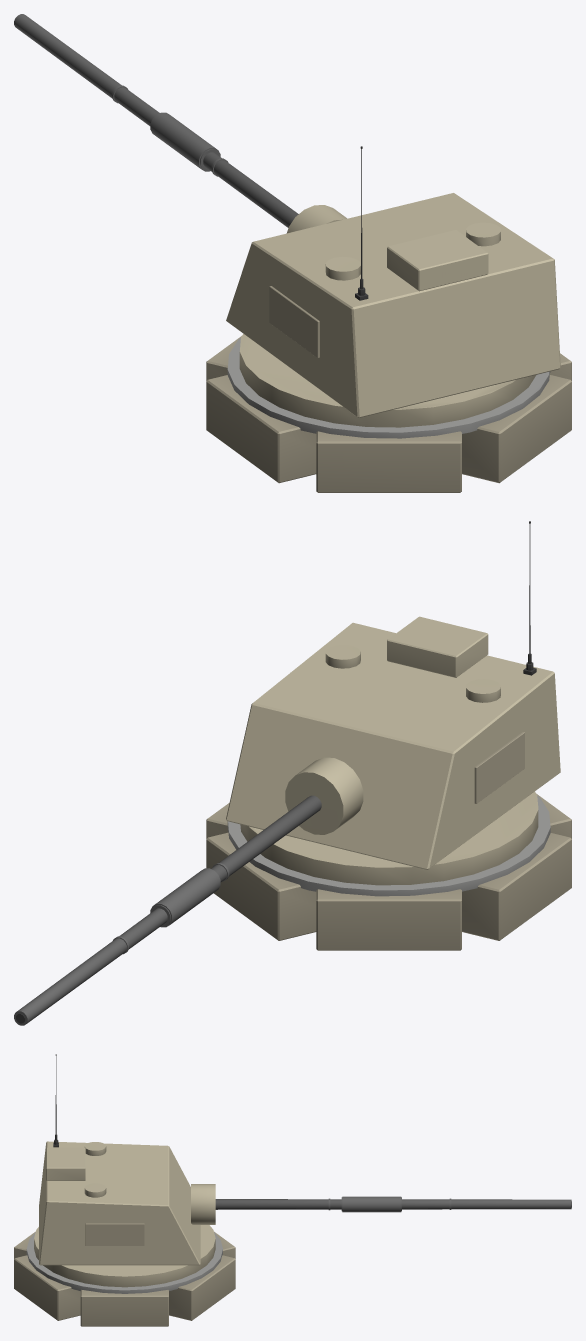
File: coastal_usa.glb
The picture shows the model from 3 angles, top to bottom: view 1: azimuth 30°, elevation 25°; view 2: azimuth 150°, elevation 25°; view 3: azimuth 270°, elevation 25°; orthographic projection. The views are drawn at different scales.
Parts seen in each view (by area): view 1: turret, body; view 2: turret, body; view 3: turret, body.
Boxes of the visible parts, x1,y1,x2,y2 form: turret: [14, 14, 560, 427]; body: [206, 336, 571, 492]; turret: [14, 521, 560, 1025]; body: [206, 793, 571, 950]; turret: [34, 1054, 571, 1287]; body: [14, 1231, 235, 1326].
Size of the model in its own units: 4.2 by 4.59 by 11.37.
